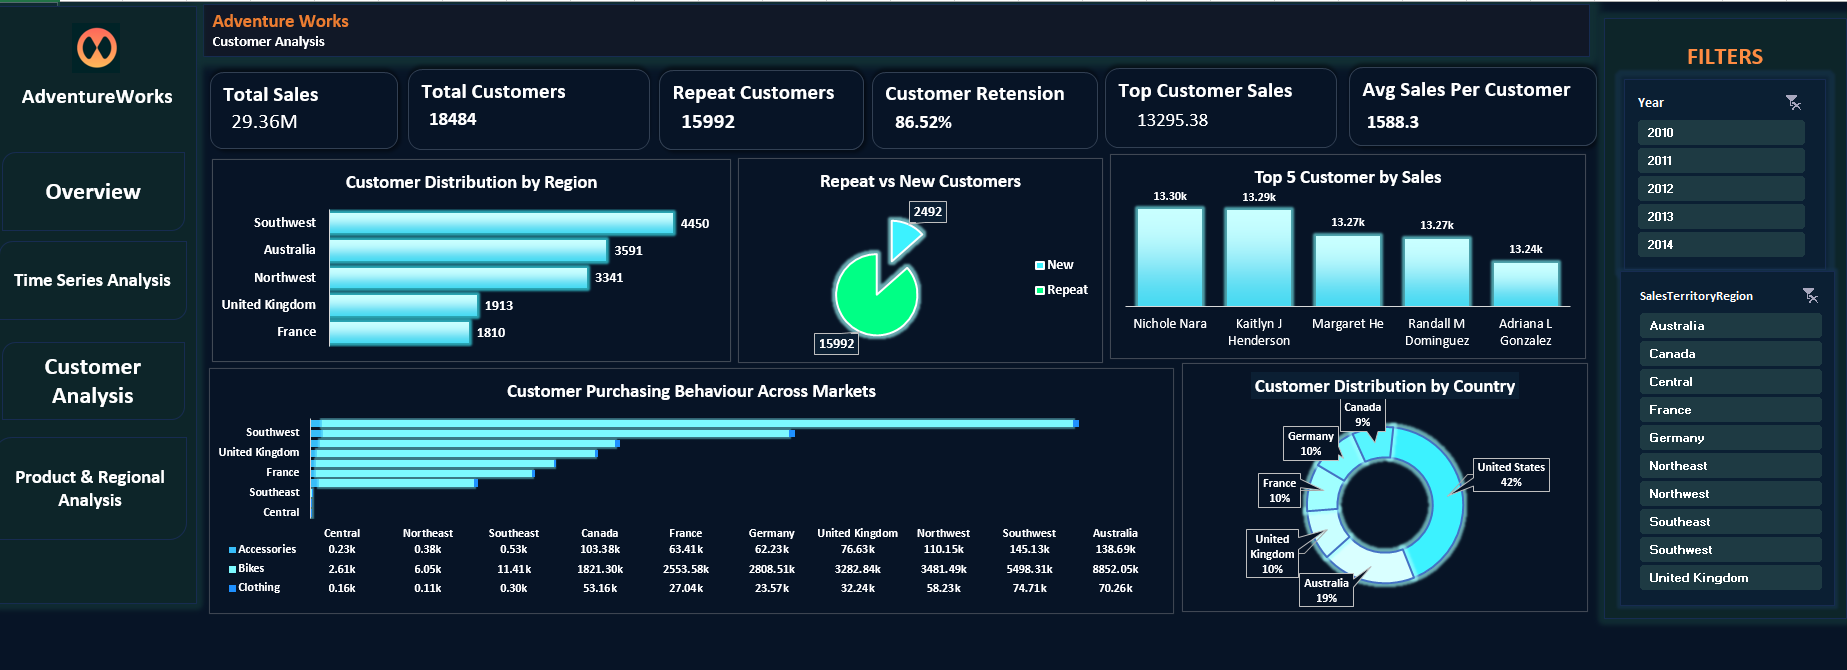

The page's visual inventory and layout, read from the dashboard file:
{"tool":"tableau","page":{"name":"Customer Analysis","canvas":[1000,1000],"units":"permille","ordinal":1},"visuals":[{"type":"dashboard-object","box":[4.7,9.1,57.8,100.2]},{"type":"text","box":[62.5,9.1,772,100.2]},{"type":"dashboard-object","box":[834.5,9.1,62.9,100.2]},{"type":"filter","title":"Customer Distribution across Country and Region","param":"[federated.0e6db3f146nowf1dx3vmm1ianpzm].[none:SalesTerritoryCountry:nk]","box":[892,17.4,97.8,63.9]},{"type":"filter","title":"Customer Retention Trends","param":"[federated.0e6db3f146nowf1dx3vmm1ianpzm].[yr:Calculation_5284129741743005696:ok]","box":[739.9,19.7,97.8,63.9]},{"type":"filter","title":"Customer Retention Trends","param":"[federated.0e6db3f146nowf1dx3vmm1ianpzm].[none:SalesTerritoryRegion:nk]","box":[890.8,88.3,97.8,63.9]},{"type":"worksheet","title":"Total Customers","mark":"Automatic","box":[4.7,109.2,166.8,128.5]},{"type":"worksheet","title":"Repeat Customers","mark":"Automatic","box":[171.5,109.2,168.6,128.5]},{"type":"worksheet","title":"Retention Rate %","mark":"Automatic","box":[340.1,109.2,204.3,128.5]},{"type":"worksheet","title":"Avg Sales per Customer","mark":"Automatic","box":[544.4,109.2,171.7,128.5]},{"type":"worksheet","title":"Total Orders","mark":"Automatic","box":[716.1,109.2,168,128.5]},{"type":"filter","title":"Customer Purchasing Behavior","param":"[federated.0e6db3f146nowf1dx3vmm1ianpzm].[none:EnglishProductCategoryName:nk]","box":[890.8,159.1,97.8,63.9]},{"type":"image","param":"Image/retention.png","box":[343.4,177.7,48.9,51.1]},{"type":"image","param":"Image/total order.png","box":[709.1,177.7,54.9,52.3]},{"type":"image","param":"Image/total cust.jpg","box":[9.7,180,43.5,46.5]},{"type":"worksheet","title":"Top 5 Repeat Customers","mark":"Automatic","rows":["Calculation_5284129741743640577"],"cols":["Calculation_2228718870388293638"],"box":[4.7,237.8,266.2,342.9]},{"type":"worksheet","title":"Customer Purchasing Behavior","mark":"Automatic","rows":["Calculation_5284129741743640577"],"cols":["SalesTerritoryCountry"],"box":[270.9,237.8,394.2,342.9]},{"type":"worksheet","title":"Customer Distribution across Country and Region","mark":"Automatic","box":[665.1,237.8,330.2,753.2]},{"type":"legend","title":"Customer Purchasing Behavior","param":"[federated.0e6db3f146nowf1dx3vmm1ianpzm].[none:EnglishProductCategoryName:nk]","box":[387.4,289.2,149.1,108]},{"type":"worksheet","title":"Customer Retention Trends","mark":"Line","rows":["Calculation_2228718870388293638"],"cols":["Calculation_5284129741743005696"],"box":[4.7,580.7,328.4,410.3]},{"type":"worksheet","title":"Top 5 Customers by sales","mark":"Automatic","rows":["Calculation_2228718870388293638"],"cols":["Calculation_5284129741743640577"],"box":[333.1,580.7,332,410.3]},{"type":"legend","title":"Customer Retention Trends","param":"[federated.0e6db3f146nowf1dx3vmm1ianpzm].[none:SalesTerritoryRegion:nk]","box":[10.3,622.5,95.4,278.8]}]}

Visuals, with their boxes on the dashboard's canvas, which has no fixed pixel size, in thousandths of its width and height (x1, y1, x2, y2). These are canvas units, not pixel positions in the 1847x670 screenshot, which may show the page scaled, cropped or inside an application window:
dashboard-object: detection(5, 9, 62, 109)
text: detection(62, 9, 834, 109)
dashboard-object: detection(834, 9, 897, 109)
"Customer Distribution across Country and Region" filter: detection(892, 17, 990, 81)
"Customer Retention Trends" filter: detection(740, 20, 838, 84)
"Customer Retention Trends" filter: detection(891, 88, 989, 152)
"Total Customers" worksheet: detection(5, 109, 172, 238)
"Repeat Customers" worksheet: detection(172, 109, 340, 238)
"Retention Rate %" worksheet: detection(340, 109, 544, 238)
"Avg Sales per Customer" worksheet: detection(544, 109, 716, 238)
"Total Orders" worksheet: detection(716, 109, 884, 238)
"Customer Purchasing Behavior" filter: detection(891, 159, 989, 223)
image: detection(343, 178, 392, 229)
image: detection(709, 178, 764, 230)
image: detection(10, 180, 53, 226)
"Top 5 Repeat Customers" worksheet: detection(5, 238, 271, 581)
"Customer Purchasing Behavior" worksheet: detection(271, 238, 665, 581)
"Customer Distribution across Country and Region" worksheet: detection(665, 238, 995, 991)
"Customer Purchasing Behavior" legend: detection(387, 289, 536, 397)
"Customer Retention Trends" worksheet (Line marks): detection(5, 581, 333, 991)
"Top 5 Customers by sales" worksheet: detection(333, 581, 665, 991)
"Customer Retention Trends" legend: detection(10, 622, 106, 901)
